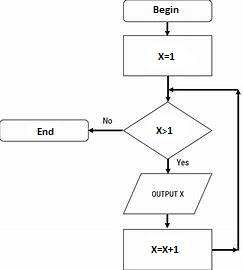arrow: (234, 89, 243, 254), (168, 86, 239, 94), (87, 126, 124, 133), (164, 74, 173, 102), (211, 246, 238, 254), (163, 19, 171, 37), (163, 214, 171, 229), (164, 157, 171, 174)
data: (121, 172, 214, 216)
decision: (123, 101, 214, 160)
process: (121, 33, 216, 79), (122, 227, 215, 270), (1, 117, 90, 143), (121, 1, 215, 24)
text: (151, 3, 181, 16), (150, 188, 186, 198), (150, 244, 178, 254), (35, 126, 55, 137), (156, 51, 175, 61), (154, 125, 173, 135), (100, 115, 114, 126), (175, 158, 190, 167)
